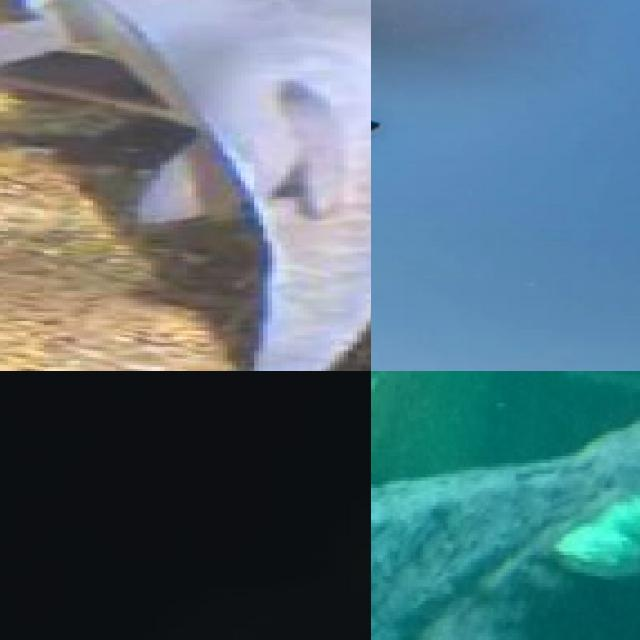fish: (0, 0, 371, 371), (371, 0, 606, 118), (0, 371, 90, 640)
